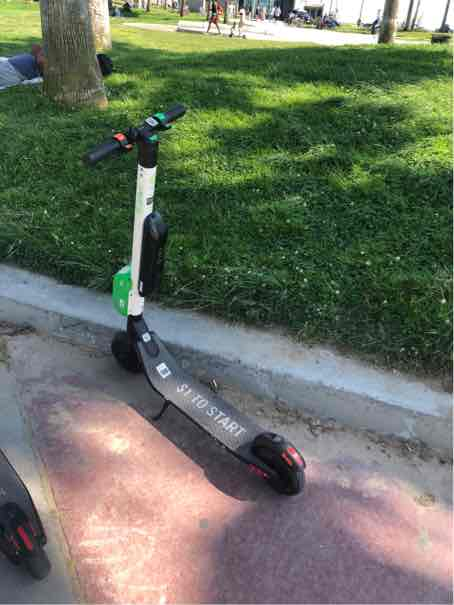scooter: (81, 97, 313, 502)
